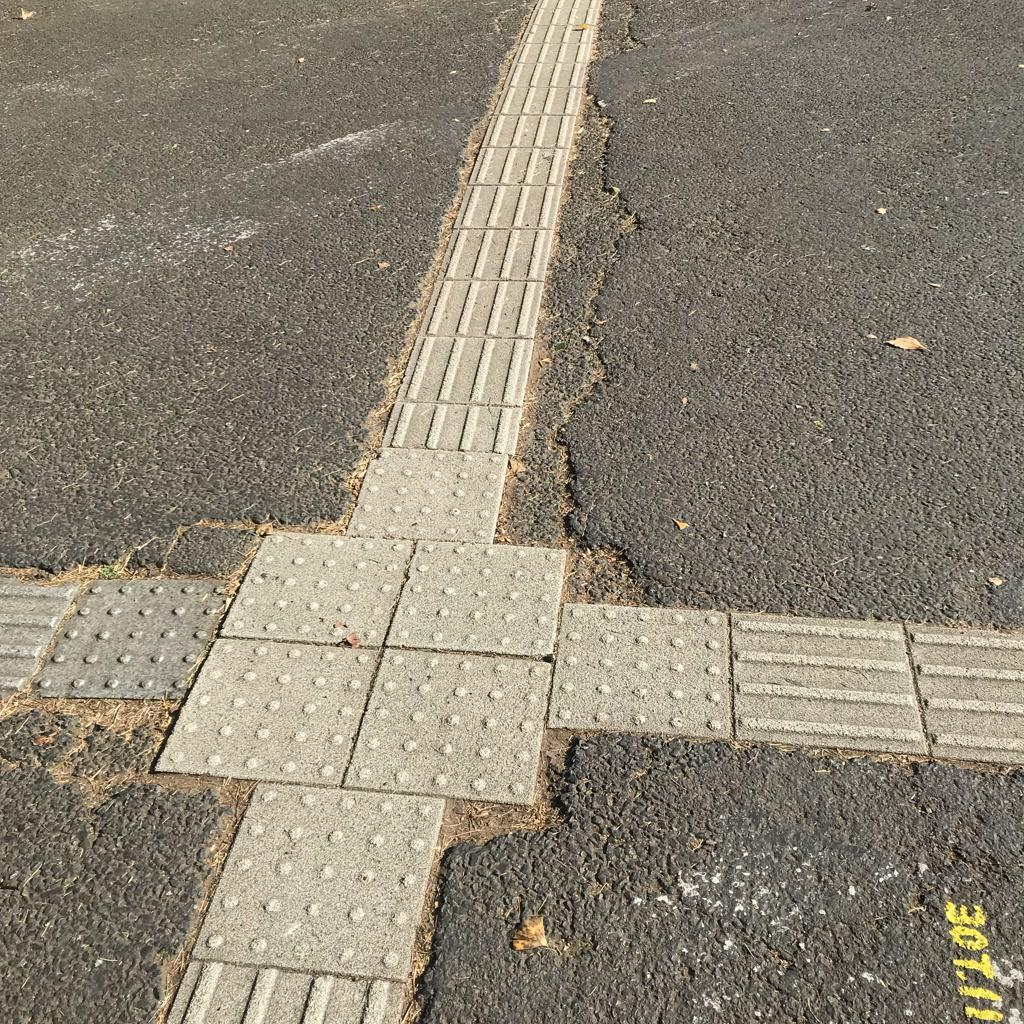D40: (486, 428, 658, 621), (500, 247, 660, 418), (553, 85, 665, 249), (584, 1, 655, 68)
